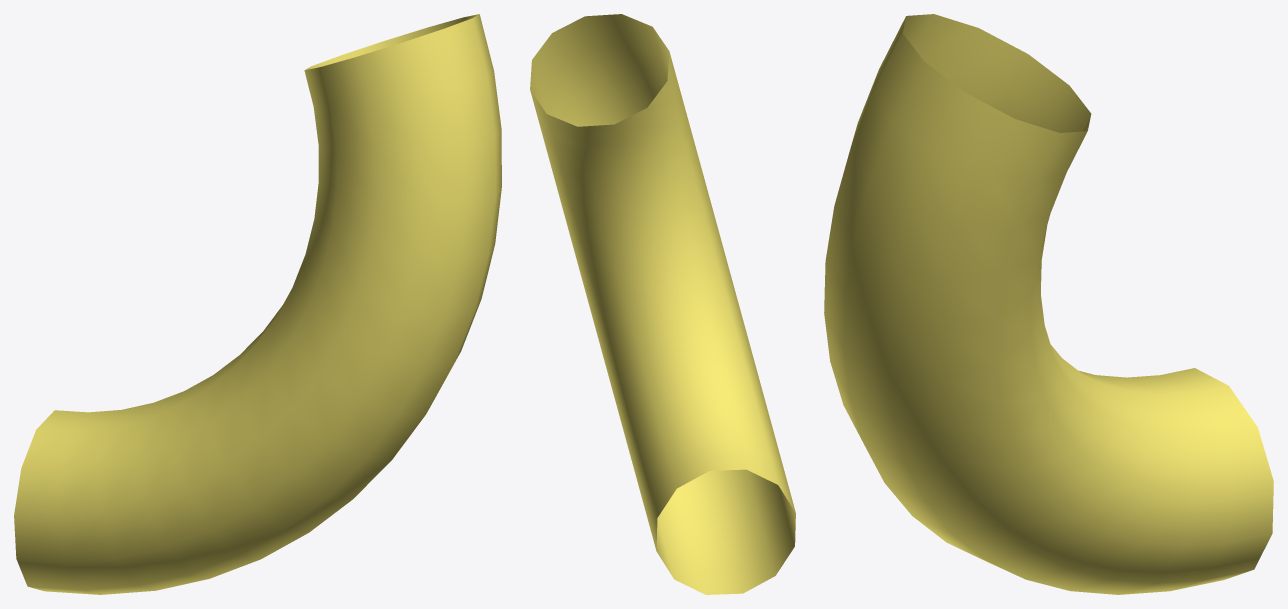
3 views of the same model, side by side, from view 1: azimuth 30°, elevation 25°; view 2: azimuth 150°, elevation 25°; view 3: azimuth 270°, elevation 25° (orthographic). The views are drawn at different scales.
Parts seen in each view (by area): view 1: Torus.003; view 2: Torus.003; view 3: Torus.003.
Boxes of the visible parts, x1=… form: Torus.003: x1=14, y1=14, x2=501, y2=594; Torus.003: x1=530, y1=14, x2=795, y2=594; Torus.003: x1=824, y1=14, x2=1273, y2=594.
Bounding box in the file's own units: 1.08 × 1.53 × 0.9066.
